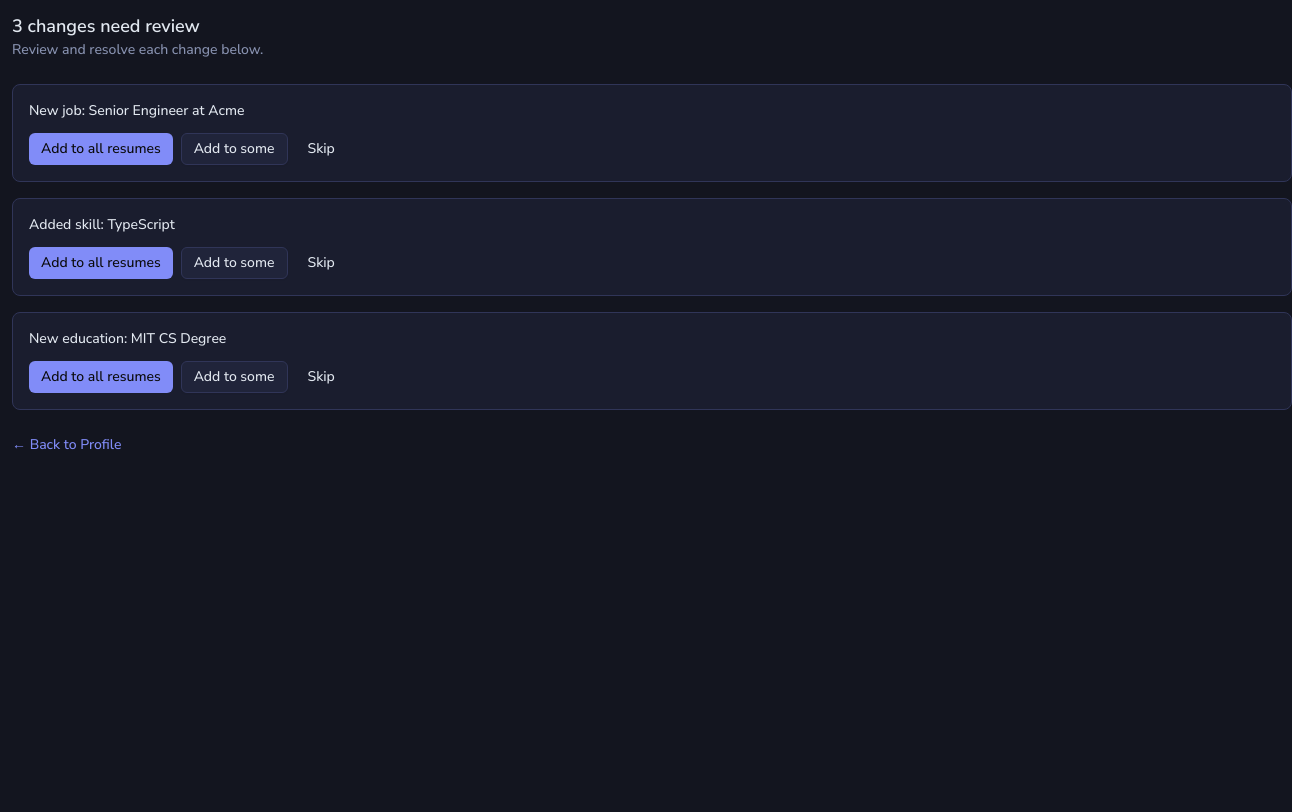
Test: ChangeFlagsResolver › resolution — add to some › enables Confirm button when checkbox selected
The image size is (1292, 812).
Click the button with test id "add-some-1": (234, 149) [181,133,288,165]
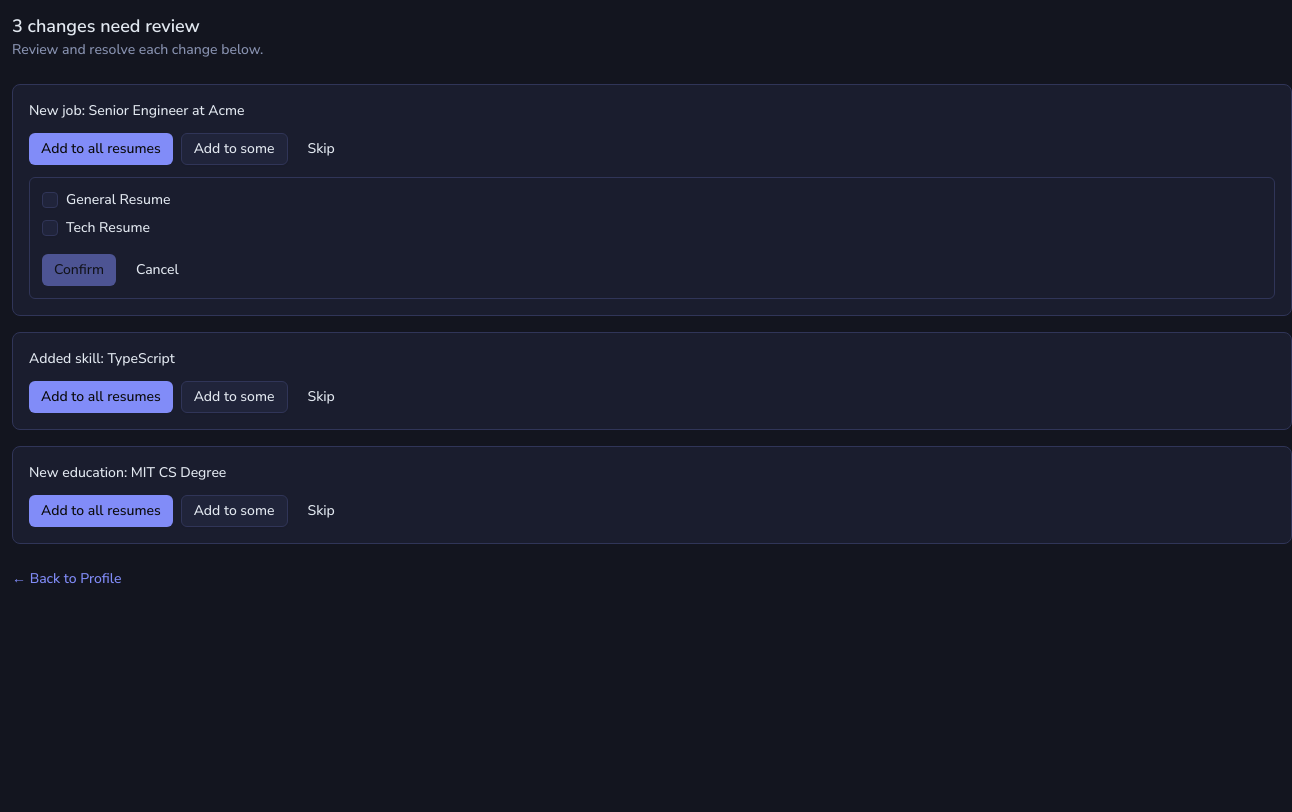
Expected: the text "General Resume" is shown, [42,190,170,209]
Note: Click the first checkbox (General Resume)
Click the checkbox next to "General Resume": (50, 200) [42,192,58,208]
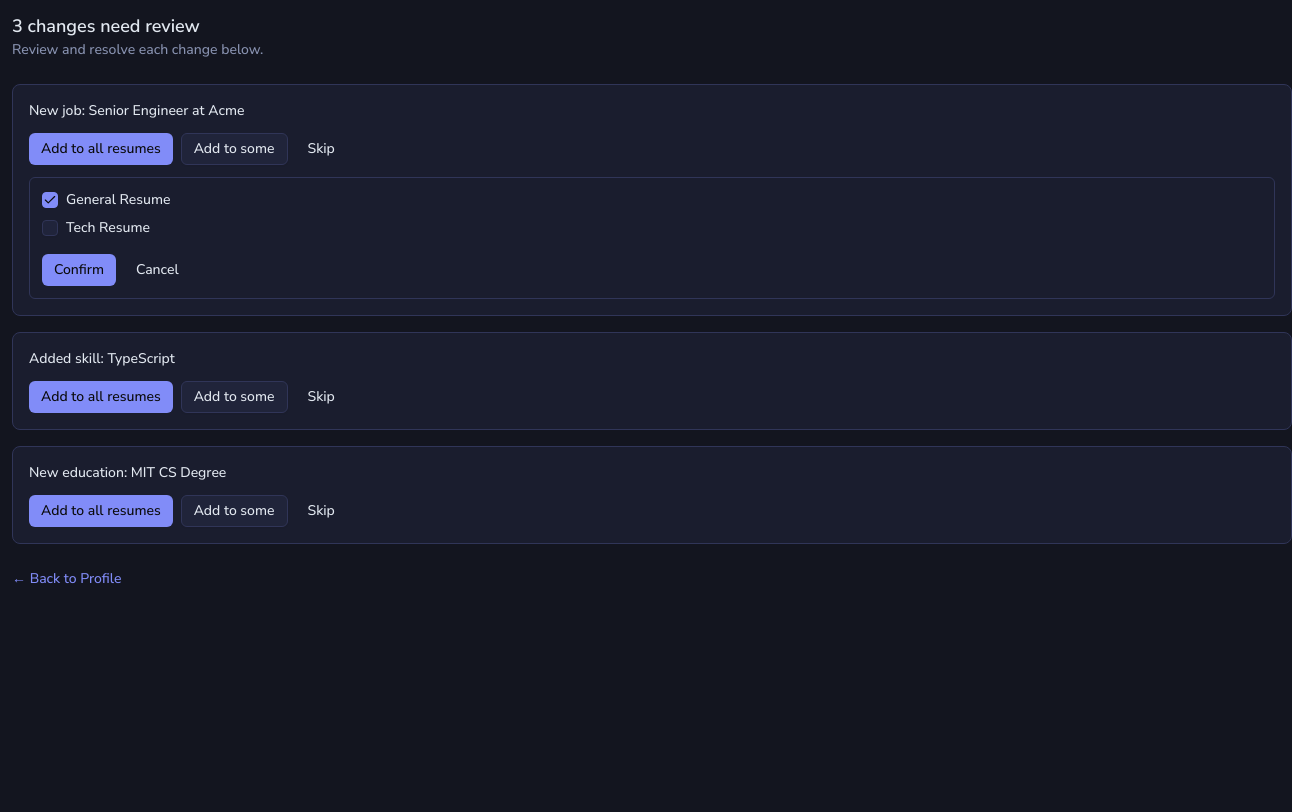
Expected: the button with test id "confirm-some-1" is enabled, [42,254,116,286]
